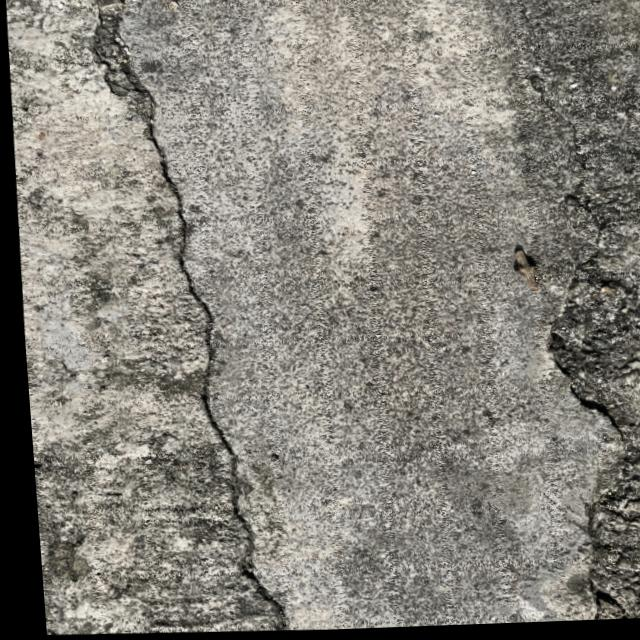Crack: (40, 0, 302, 622)
